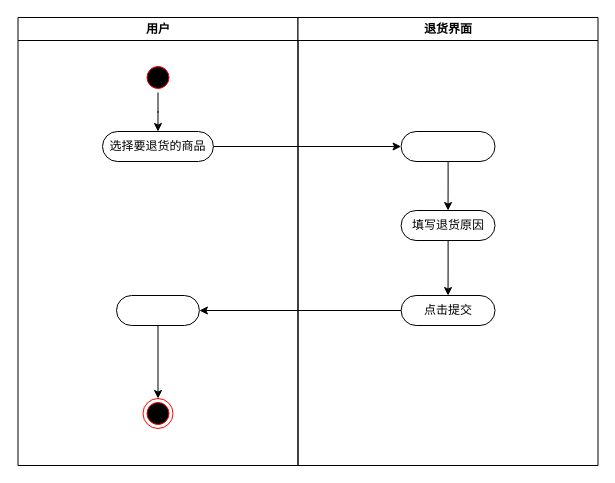
The diagram is 615 pixels wide and 483 high, and some of its shapes have lost their labels. Here are the shapes that lost their labels. From the top down, the centre of each, then its label:
(447,146): 点击退货按钮
(157,310): 等待结果
